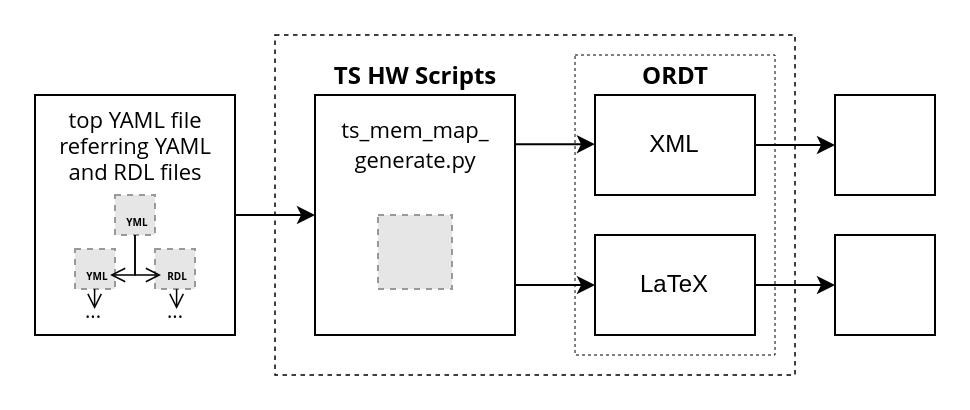
Image size: 970x410. Some labels were removed from this diagram. Grey dashed boxes stand in for pictures. The shapes that lost their labels are listed below. From the top down, each one's box as (x1, y1, x2, y2) in pixels, then its label:
(833, 93, 935, 195): TVE
(833, 233, 935, 335): Docs
